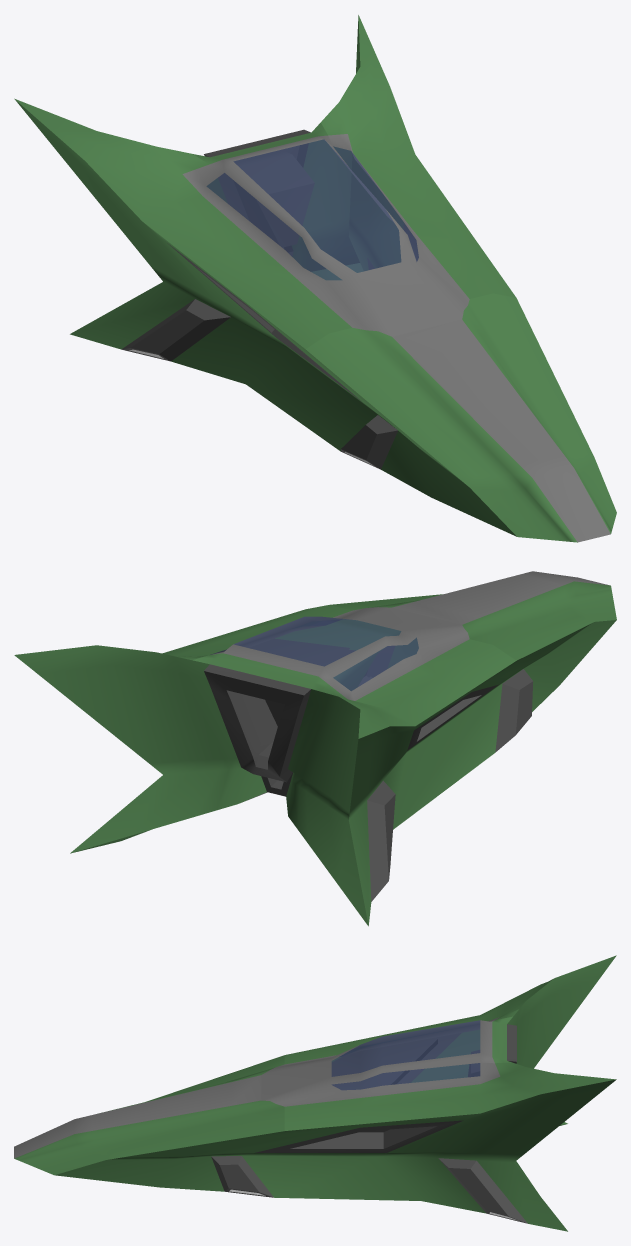
File: futurecar.fbx
The picture shows the model from 3 angles, top to bottom: view 1: azimuth 30°, elevation 25°; view 2: azimuth 150°, elevation 25°; view 3: azimuth 270°, elevation 25°; orthographic projection. The views are drawn at different scales.
Visible parts, largest first — view 1: pCube1; view 2: pCube1; view 3: pCube1.
Part boxes in pixels (x1,y1,x2,y2): pCube1: (14,15,616,542); pCube1: (14,571,616,926); pCube1: (14,955,616,1231).
Size of the model in its own units: 22.88 by 13.88 by 46.95.
